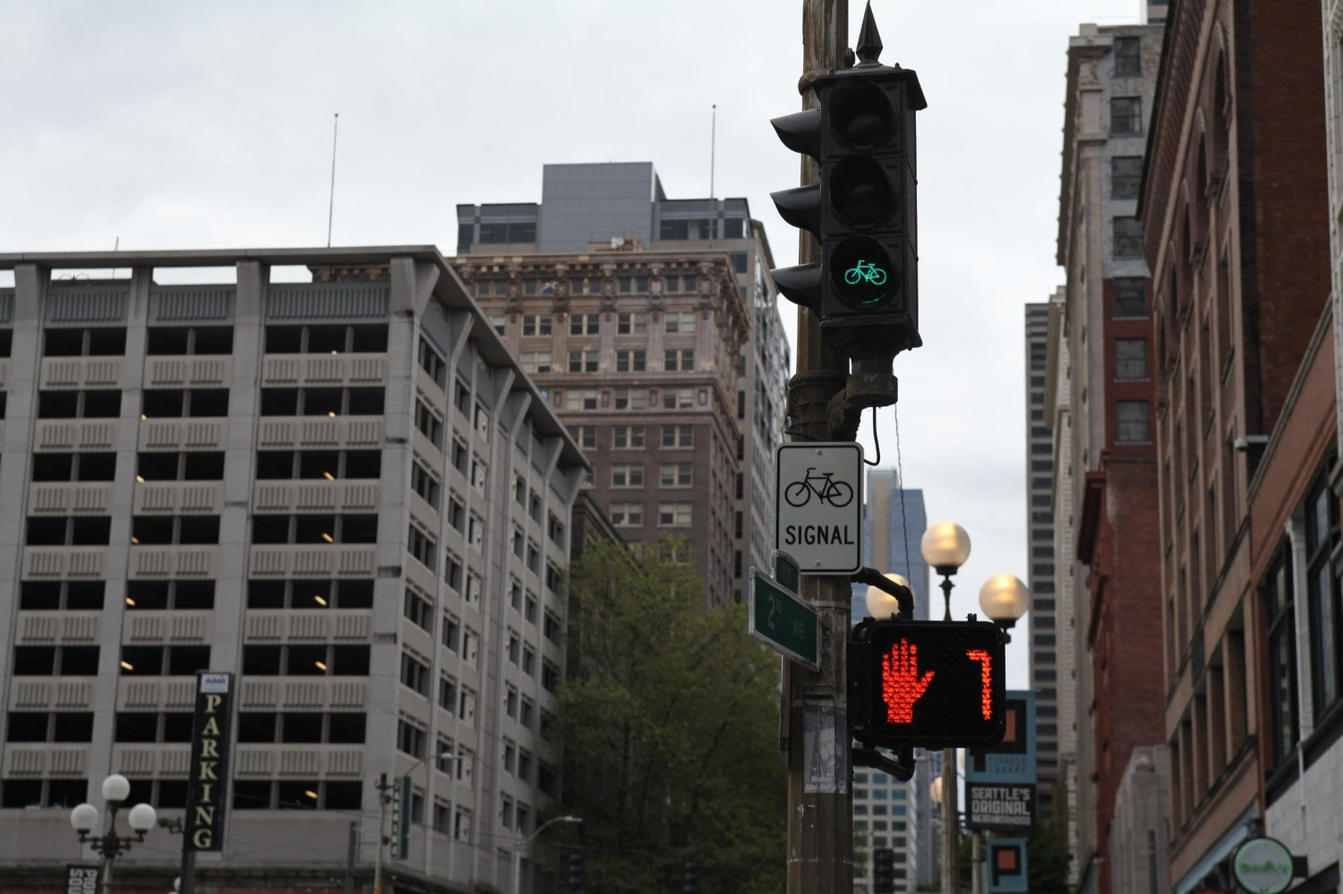pedestrian_stop: (857, 622, 953, 743)
